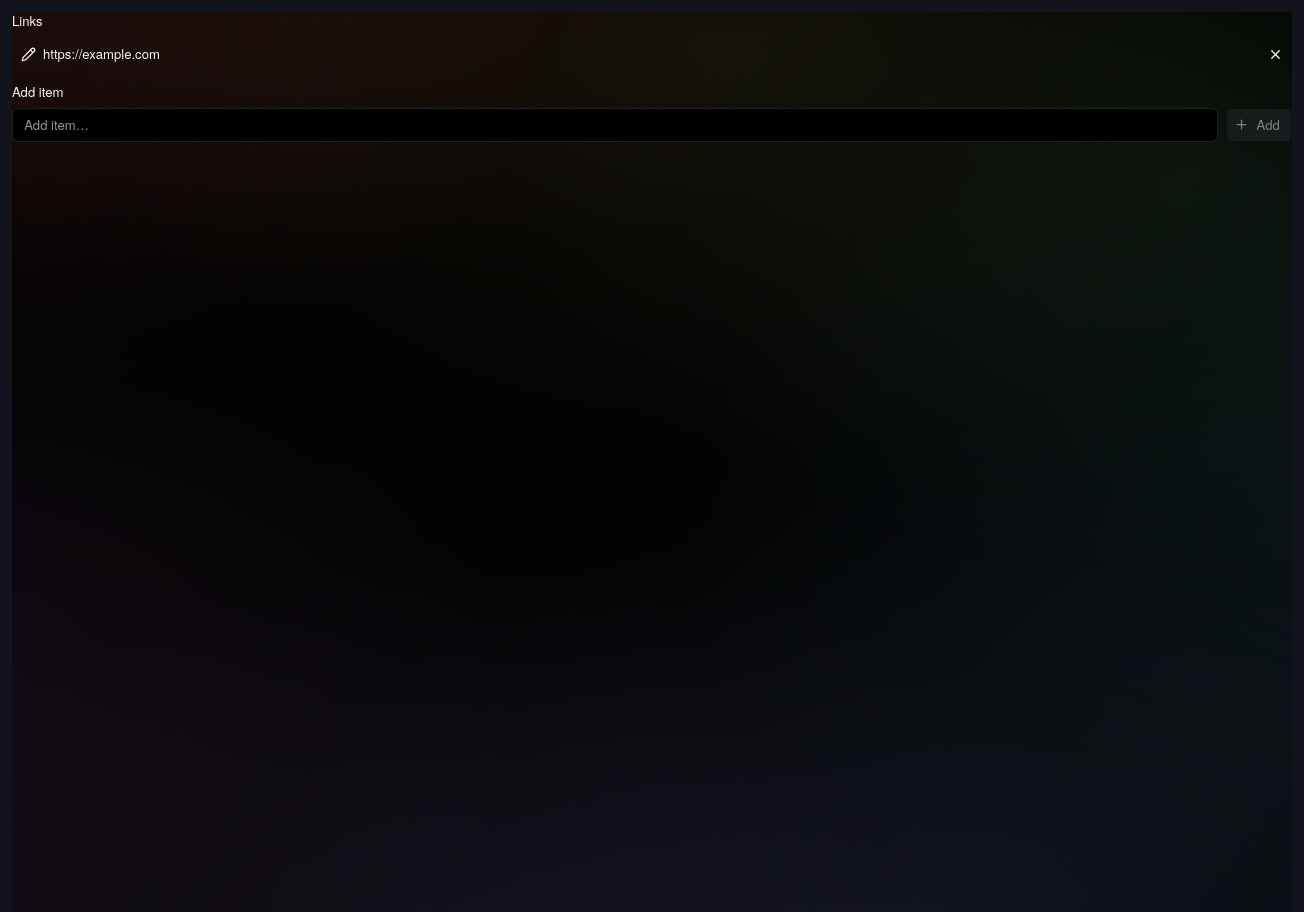
shared metadata collection editors › identifies the edit action and explains rejected link edits
Click the button with aria-label "Edit https://example.com" at (101, 54), box [12, 38, 1251, 71]
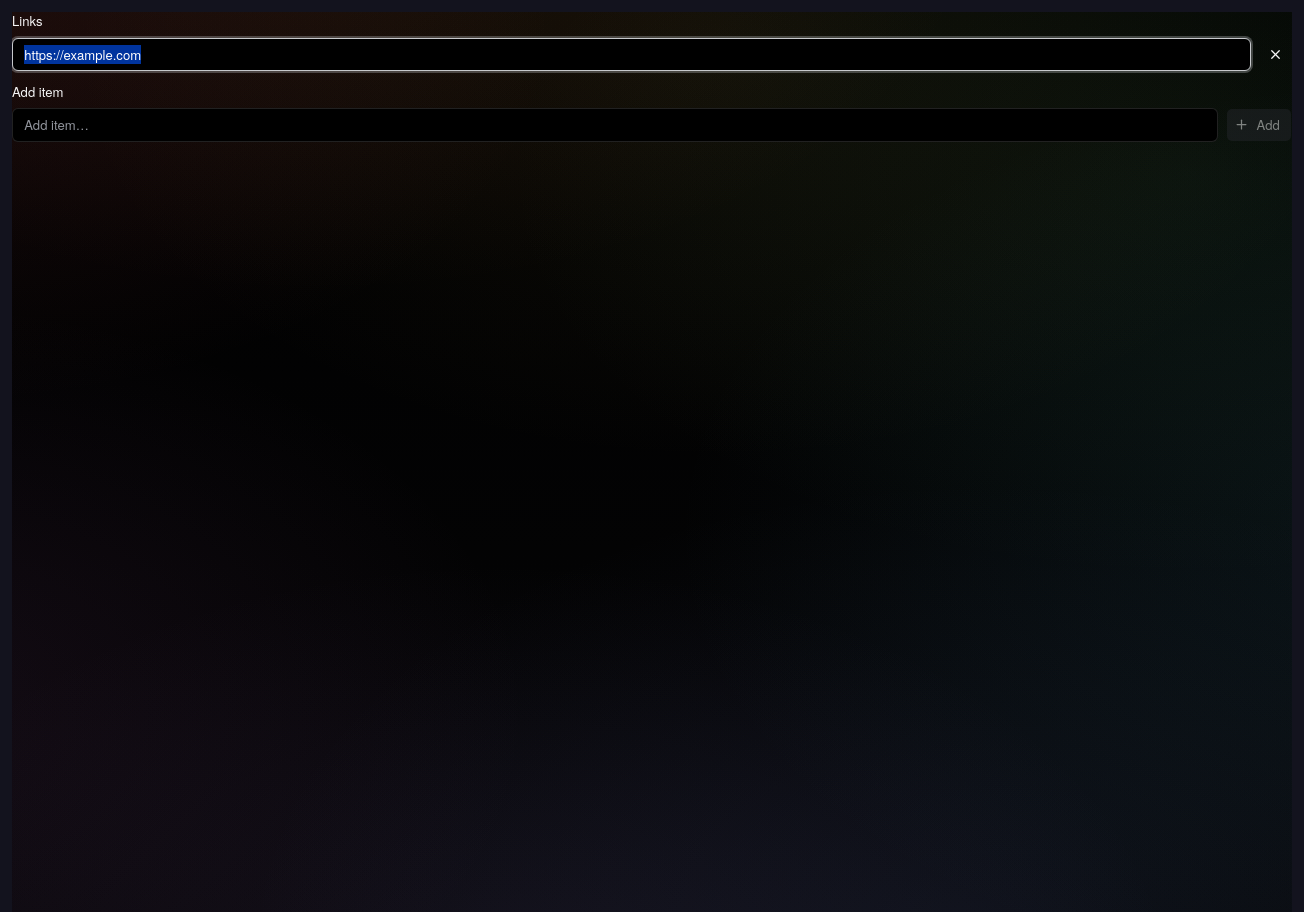
Replace the text in the field named "Links item" with "bad link" at (631, 54), box [12, 38, 1251, 71]
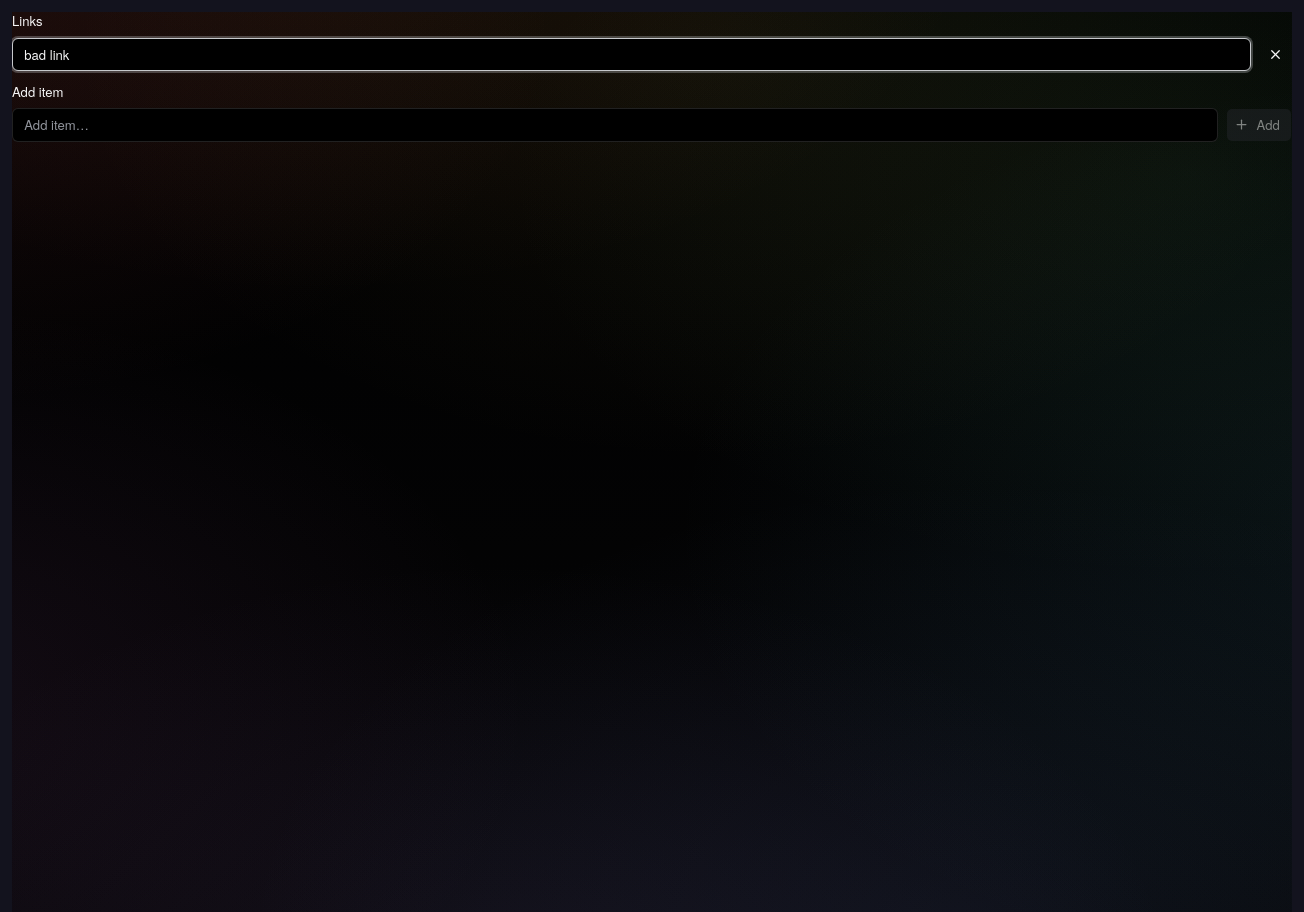
Press Enter in the field named "Links item", box [12, 38, 1251, 71]
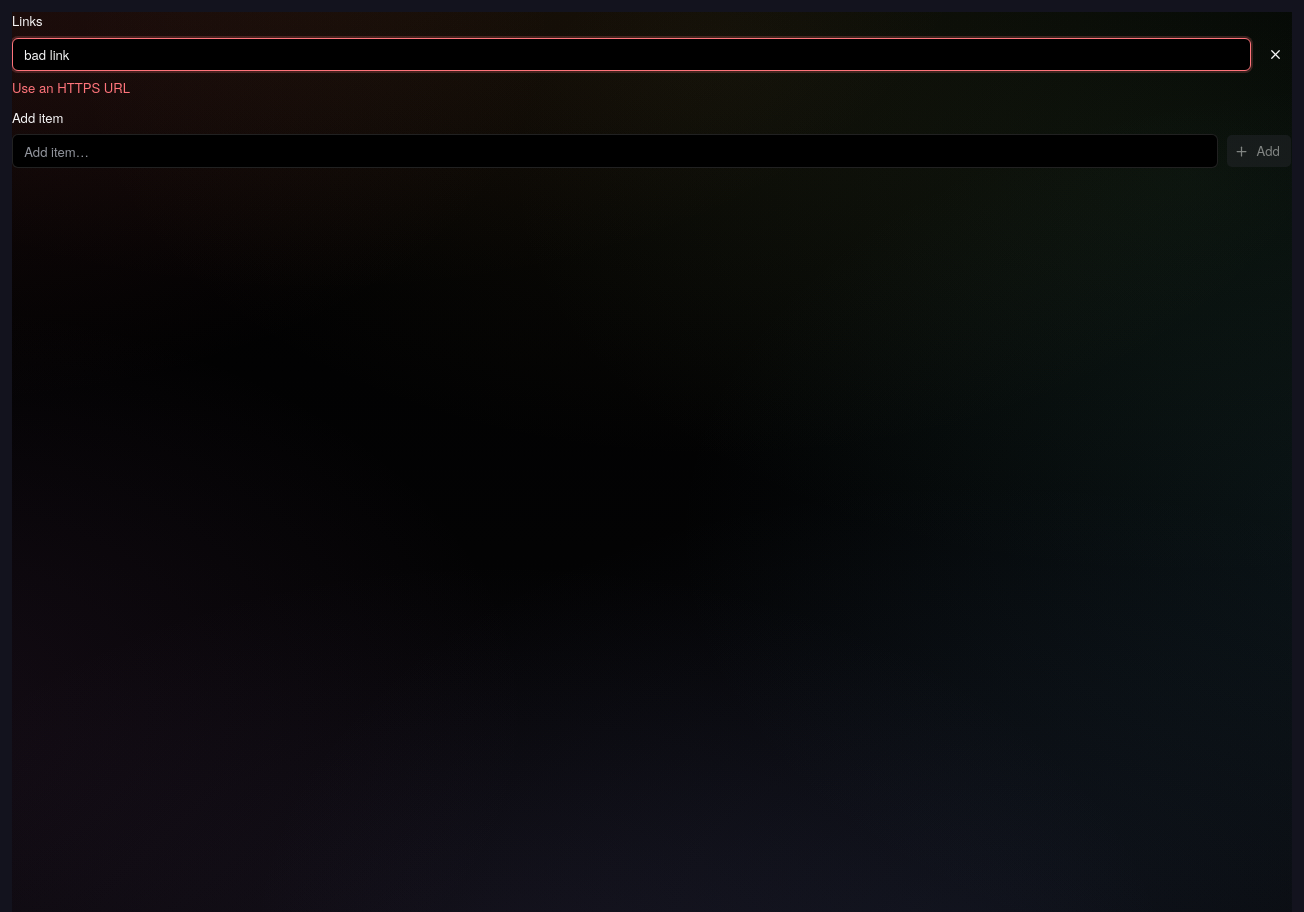
Press Escape in the field named "Links item", box [12, 38, 1251, 71]
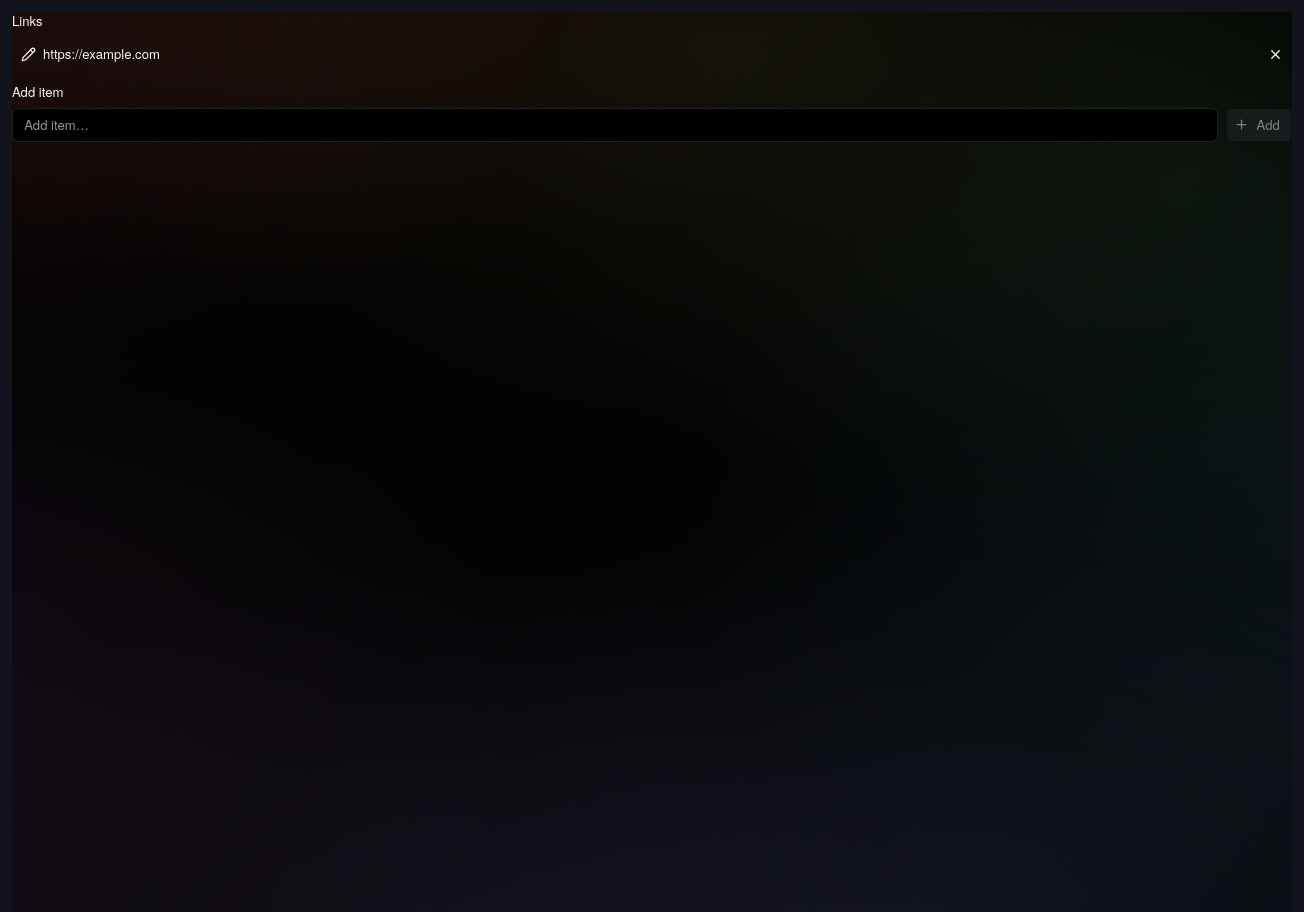
Result: the button with aria-label "Edit https://example.com" is shown at [12, 38, 1251, 71]
